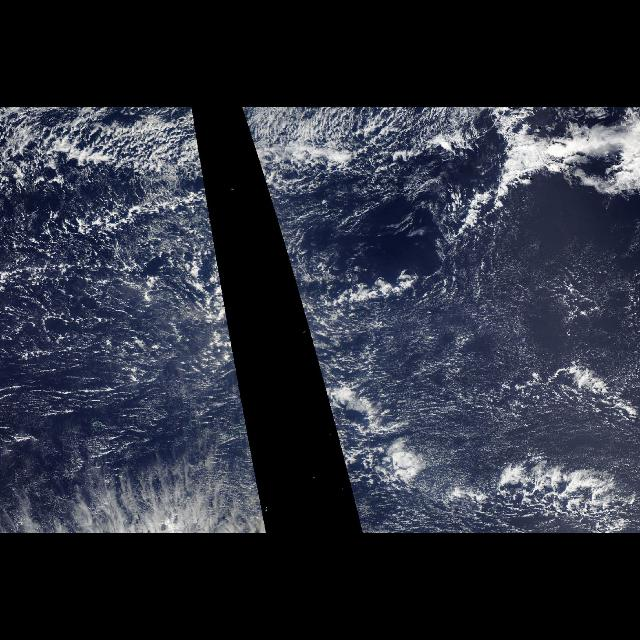Gravel: (5, 107, 246, 419), (242, 107, 310, 333)
Sugar: (341, 212, 639, 473)
